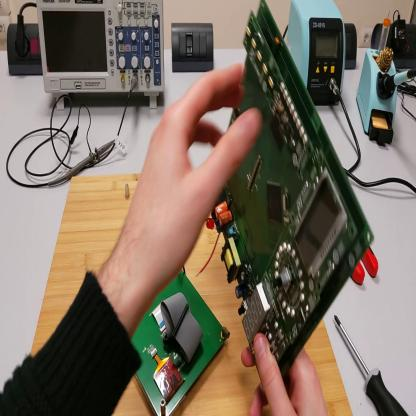hand: (124, 62, 263, 294), (242, 335, 328, 415)
low voltage board: (196, 2, 374, 378)
oscilloscope: (38, 3, 168, 115)
oscilloscope probe tip: (48, 138, 116, 186)
pliers: (352, 245, 381, 288)
screwdriver-: (336, 316, 410, 414)
socket: (373, 20, 415, 70), (6, 23, 43, 79), (346, 23, 358, 70)
welder base: (357, 14, 397, 148)
welder probe tip: (385, 71, 413, 94)
welder station: (287, 5, 347, 109)
working area: (31, 175, 353, 416)
